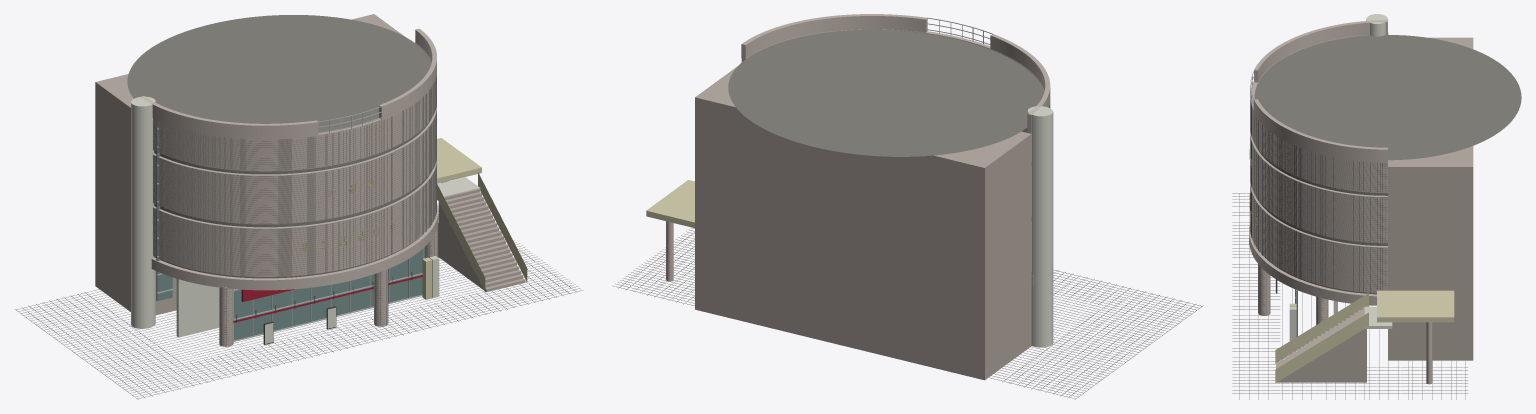
Rendered from yeyaozhen.glb.
3 views of the same model, side by side, from view 1: azimuth 30°, elevation 25°; view 2: azimuth 150°, elevation 25°; view 3: azimuth 270°, elevation 25° (orthographic). The views are drawn at different scales.
Visible parts, largest first — view 1: curved ceramic facade, roof deck, vertical narrow tile joints, horizontal tile grout, forecourt horizontal joints, inferred rear volume, shop glass storefront, left pale vertical stair tower, side exterior staircase, roof parapet left, forecourt brick joints, deep horizontal reveal (+10 smaller); view 2: inferred rear volume, roof deck, forecourt horizontal joints, left pale vertical stair tower, roof parapet right, forecourt brick joints, side connecting canopy, roof parapet left, curved ceramic facade; view 3: roof deck, curved ceramic facade, inferred rear volume, vertical narrow tile joints, horizontal tile grout, side exterior staircase, forecourt brick joints, sloping yellow stair parapets, side connecting canopy, roof parapet right, roof parapet left, forecourt horizontal joints (+6 smaller).
Part boxes in pixels (bbox=[...]): curved ceramic facade: bbox=[151, 42, 438, 290]; roof deck: bbox=[127, 15, 431, 132]; vertical narrow tile joints: bbox=[153, 74, 436, 276]; horizontal tile grout: bbox=[153, 81, 436, 274]; forecourt horizontal joints: bbox=[16, 206, 583, 398]; inferred rear volume: bbox=[95, 14, 404, 315]; shop glass storefront: bbox=[234, 247, 425, 340]; left pale vertical stair tower: bbox=[131, 96, 155, 328]; side exterior staircase: bbox=[438, 188, 525, 292]; roof parapet left: bbox=[140, 96, 317, 139]; forecourt brick joints: bbox=[15, 239, 577, 399]; deep horizontal reveal: bbox=[154, 120, 430, 278]; inferred rear volume: bbox=[695, 66, 1031, 380]; roof deck: bbox=[728, 30, 1043, 156]; forecourt horizontal joints: bbox=[612, 228, 1201, 398]; left pale vertical stair tower: bbox=[1027, 106, 1053, 347]; roof parapet right: bbox=[741, 14, 927, 58]; forecourt brick joints: bbox=[618, 232, 1203, 399]; side connecting canopy: bbox=[646, 180, 694, 228]; roof parapet left: bbox=[990, 34, 1050, 129]; curved ceramic facade: bbox=[741, 29, 1044, 285]; roof deck: bbox=[1254, 35, 1521, 160]; curved ceramic facade: bbox=[1249, 34, 1387, 305]; inferred rear volume: bbox=[1388, 37, 1473, 360]; vertical narrow tile joints: bbox=[1250, 33, 1388, 293]; horizontal tile grout: bbox=[1250, 98, 1387, 290]; side exterior staircase: bbox=[1276, 307, 1366, 382]; forecourt brick joints: bbox=[1232, 193, 1467, 393]; sloping yellow stair parapets: bbox=[1275, 293, 1368, 382]; side connecting canopy: bbox=[1377, 290, 1454, 322]; roof parapet right: bbox=[1254, 99, 1387, 162]; roof parapet left: bbox=[1254, 20, 1387, 82]; forecourt horizontal joints: bbox=[1239, 193, 1465, 399].
Bounding box in the file's own units: 25.6 × 12.24 × 15.13.
